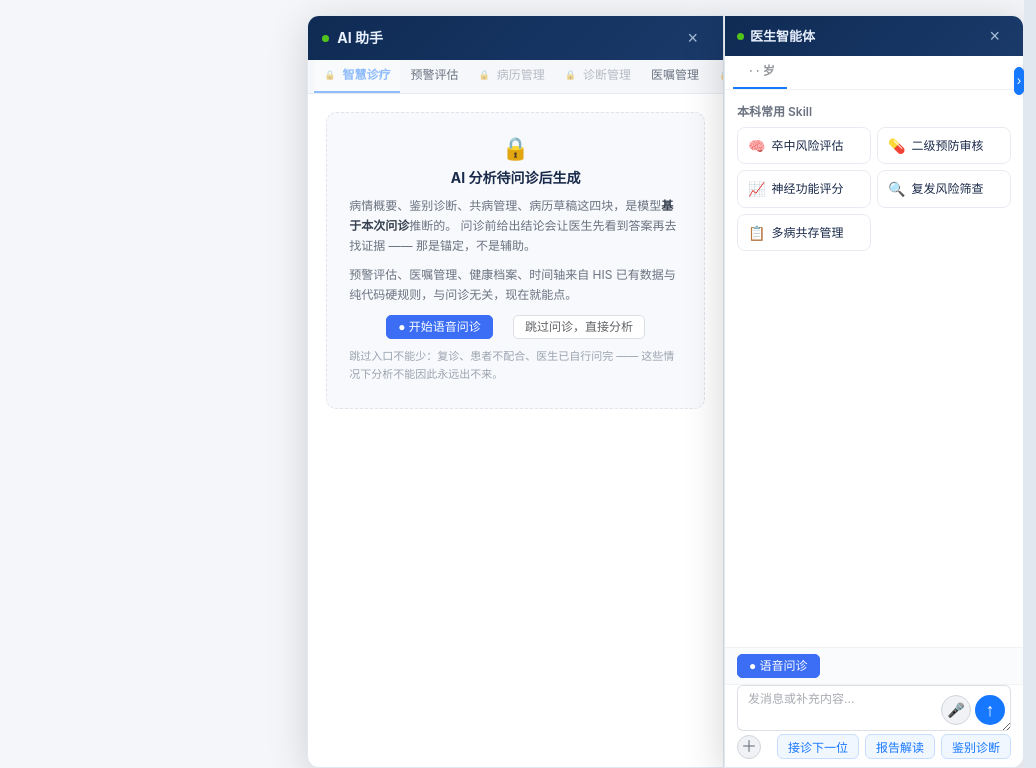
Test case: ＋ 菜单 › 选中提示词后菜单关闭，文本进入输入框
Click the button with class "tb-plus-btn".
click(749, 746)  # box [737, 734, 761, 758]
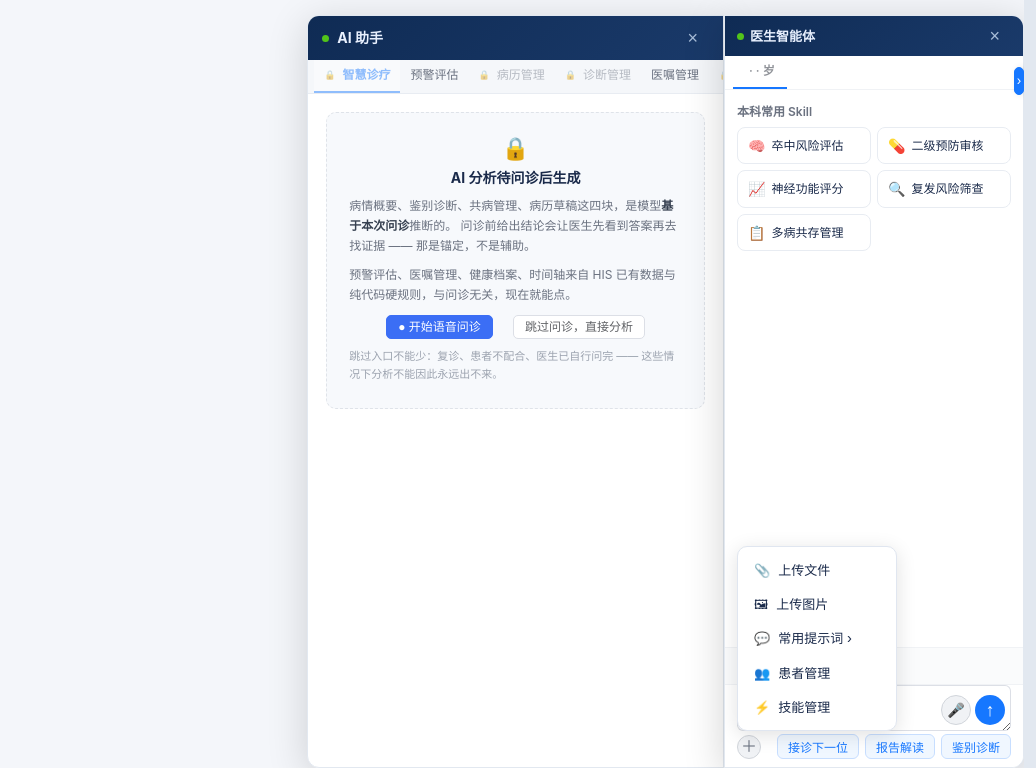
Click the element showing "💬 常用提示词 ›".
click(803, 638)  # box [754, 630, 852, 646]
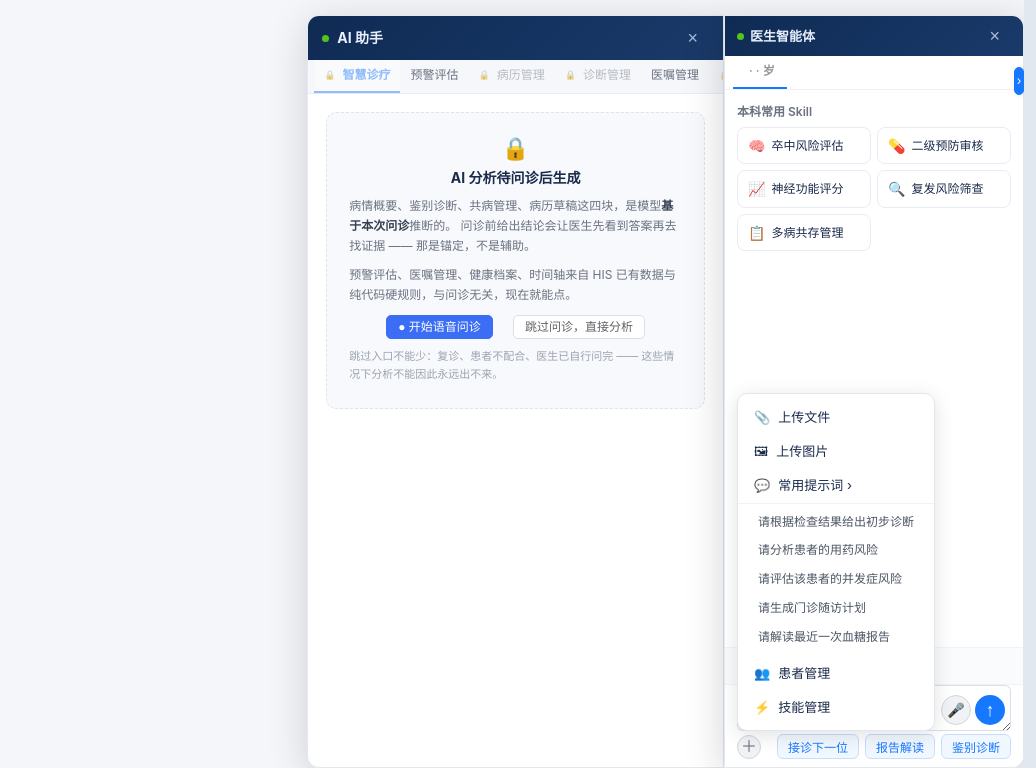
Click the text "请分析患者的用药风险".
click(818, 550)  # box [758, 542, 878, 557]
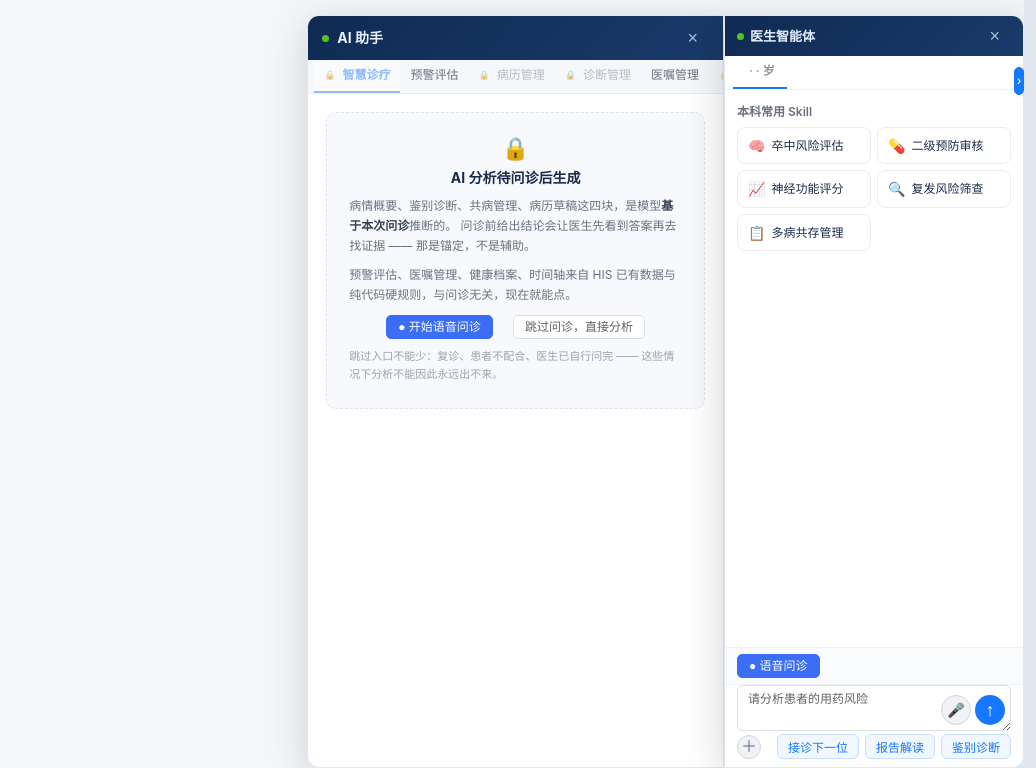
Result: the text box holds "请分析患者的用药风险" at [737, 685, 1011, 731]
